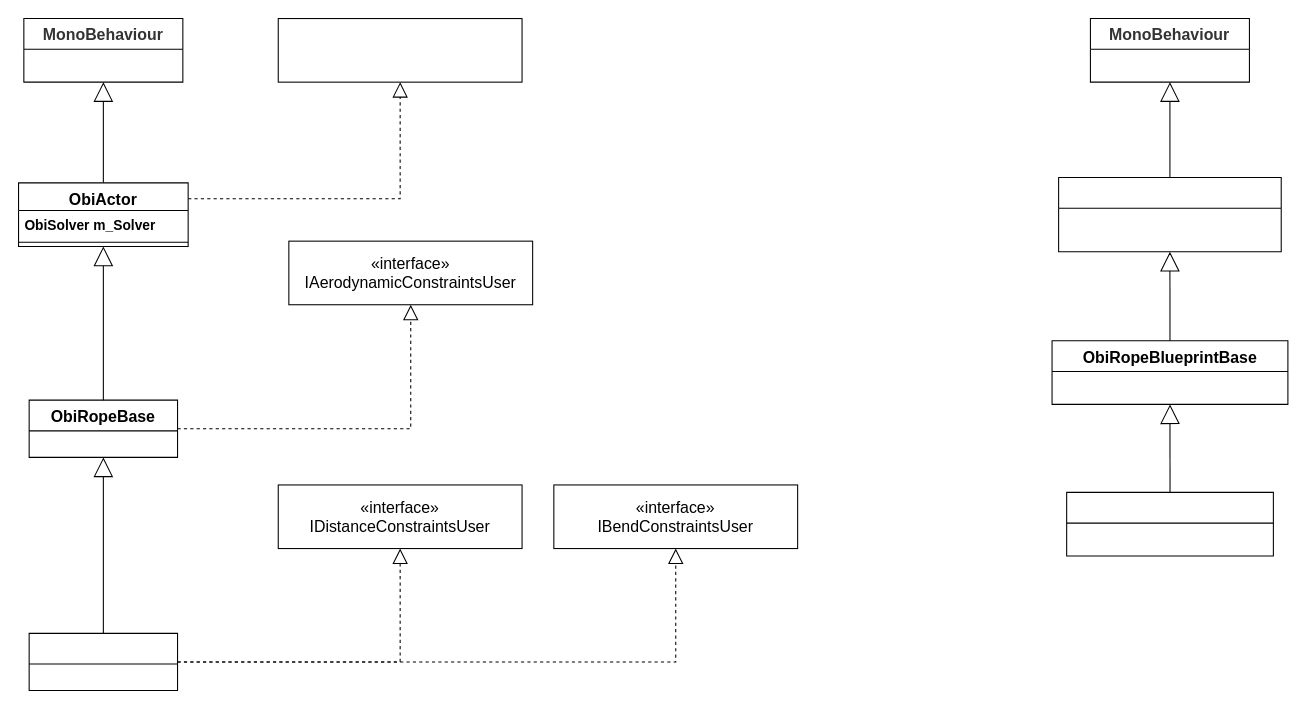
Some shapes in this 1307 by 709 pixel diagram are drawn without their labels. Each missing label, with the box of its shape:
ObiActorBlueprint: (1058, 176, 1281, 252)
ObiRope: (28, 632, 178, 691)
ObiRopeBlueprint: (1066, 491, 1273, 556)
«interface» IObiParticleCollection: (277, 17, 522, 82)
